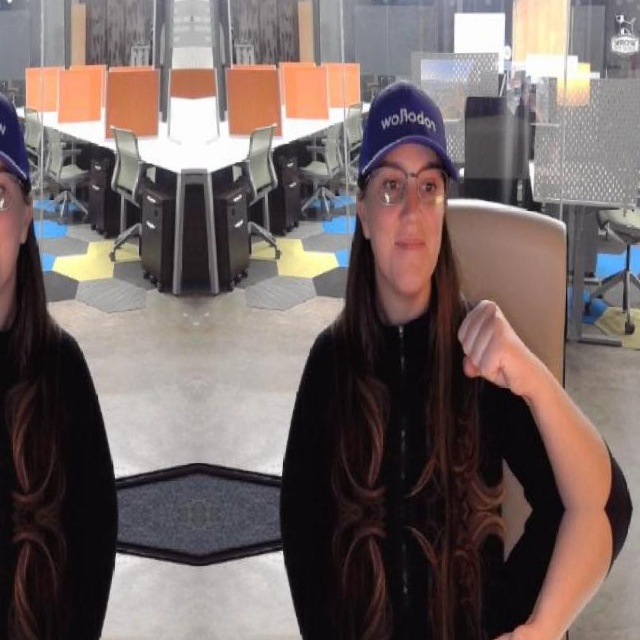Rock: (452, 297, 528, 405)
